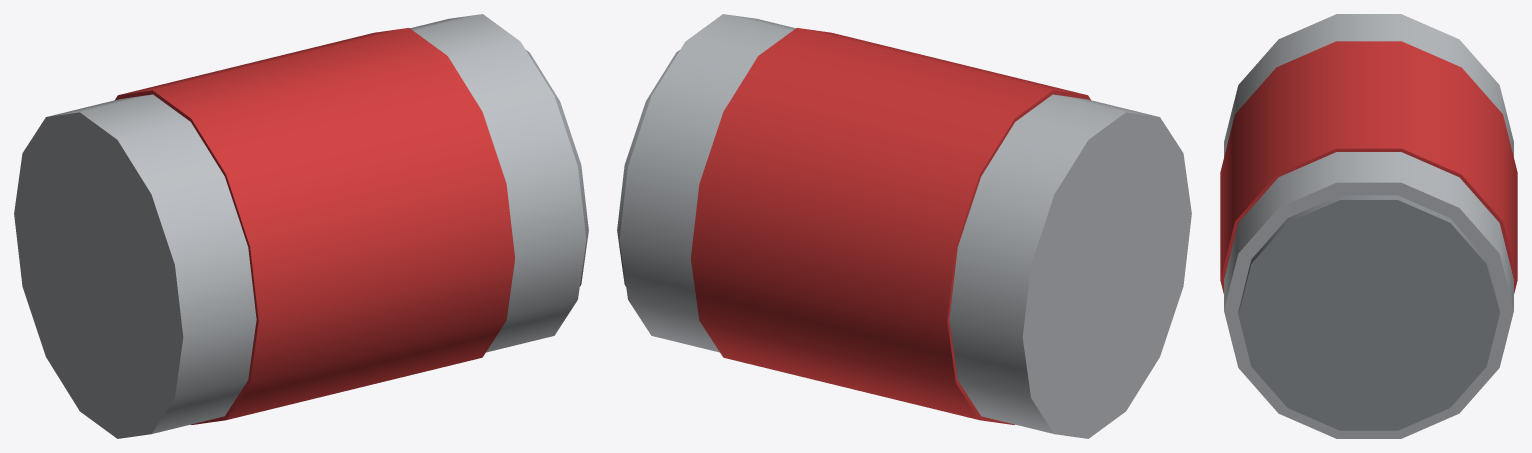
File: waste_can.fbx
The picture shows the model from 3 angles, left to right: view 1: azimuth 30°, elevation 25°; view 2: azimuth 150°, elevation 25°; view 3: azimuth 270°, elevation 25°; orthographic projection. The views are drawn at different scales.
Parts seen in each view (by area): view 1: M__waste_can; view 2: M__waste_can; view 3: M__waste_can.
Boxes of the visible parts, box(x1,y1,x2,y2) form: M__waste_can: box(14, 14, 588, 438); M__waste_can: box(617, 14, 1191, 438); M__waste_can: box(1220, 14, 1517, 438).
Bounding box in the file's own units: 0.113 × 0.0799 × 0.082.
